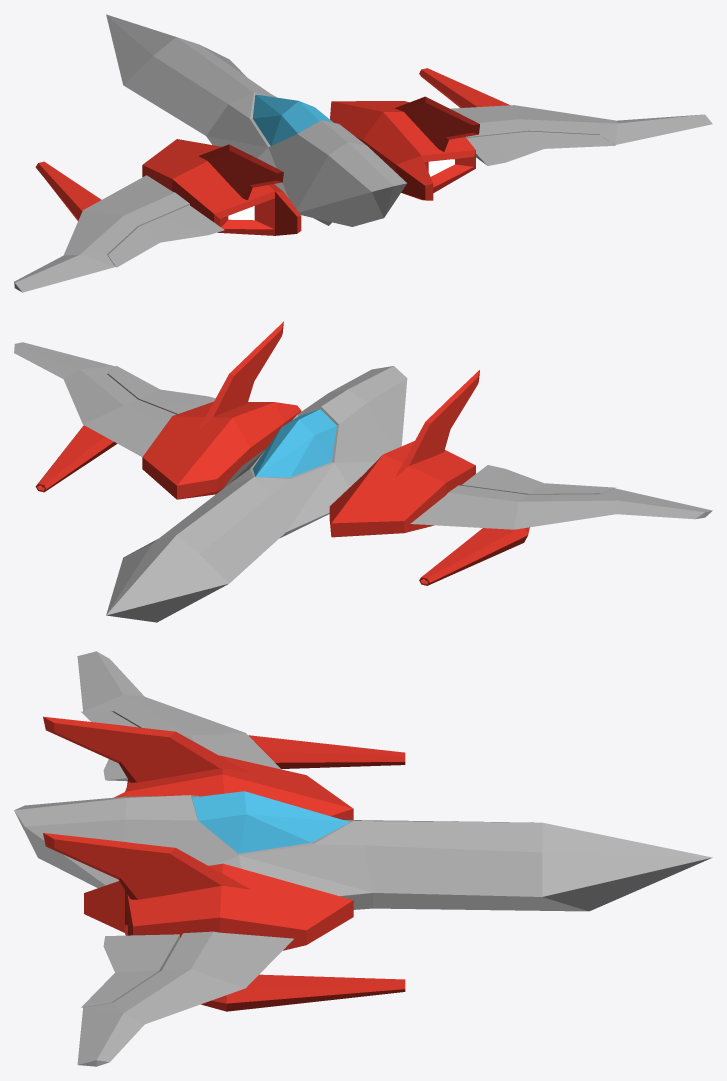
File: lowpoly_space_ship.glb
3 views of the same model, one above another, from view 1: azimuth 30°, elevation 25°; view 2: azimuth 150°, elevation 25°; view 3: azimuth 270°, elevation 25° (orthographic). The views are drawn at different scales.
Visible parts, largest first — view 1: ship, flaps, guns; view 2: ship, guns, flaps; view 3: ship, guns, flaps.
Part boxes in pixels (<box>): ship: <box>14,14,712,292</box>; flaps: <box>108,131,615,267</box>; guns: <box>35,68,509,220</box>; ship: <box>14,321,712,622</box>; guns: <box>35,425,529,585</box>; flaps: <box>107,366,615,494</box>; ship: <box>14,651,712,1066</box>; guns: <box>201,735,405,1011</box>; flaps: <box>81,711,179,1007</box>.
Bounding box in the file's own units: 1.85 × 0.3003 × 1.33.
